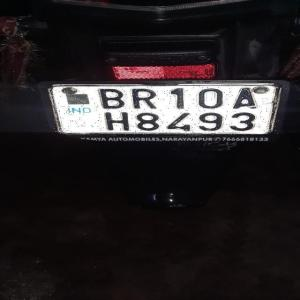Plate: (53, 85, 278, 135)
